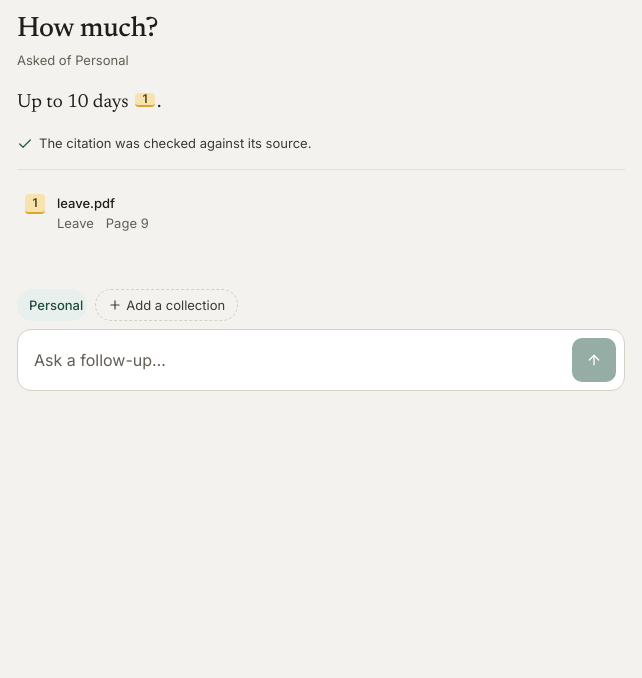
Test: Conversation › asks the chosen Collections, shows them with each answer, and lets the next question change them
Expected: the text "Asked of Personal" is shown, [17,52,129,68]
Expected: the text "The citation was checked against its source." is shown, [17,135,311,152]
Click the button "Add a collection". click: point(167, 305)
box: [95,289,238,321]
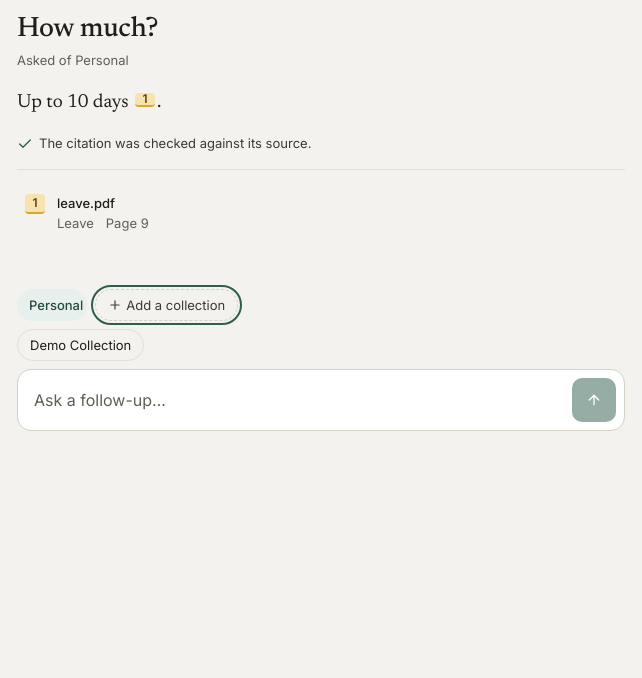
Click the button "Demo Collection". click: point(81, 345)
box: [17,329,144,361]
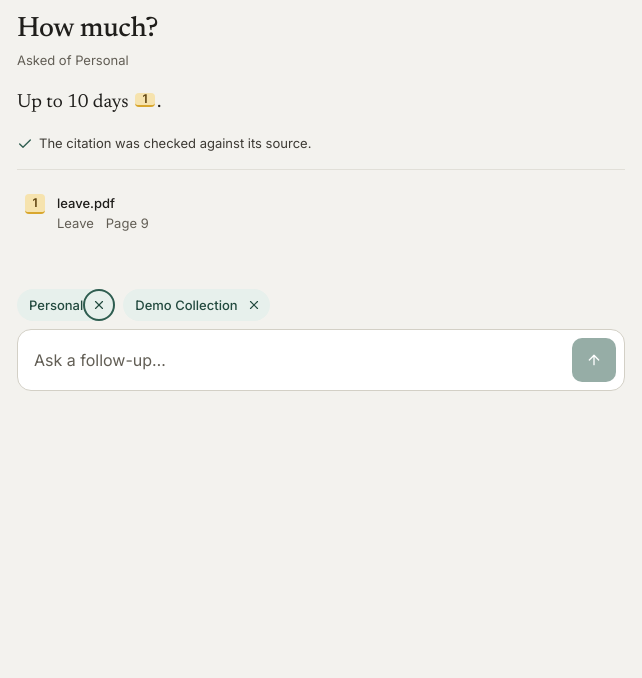
Type "And more?" into the text box named "Ask a follow-up question". click: point(295, 360)
box: [26,338,564,382]
Then press Enter
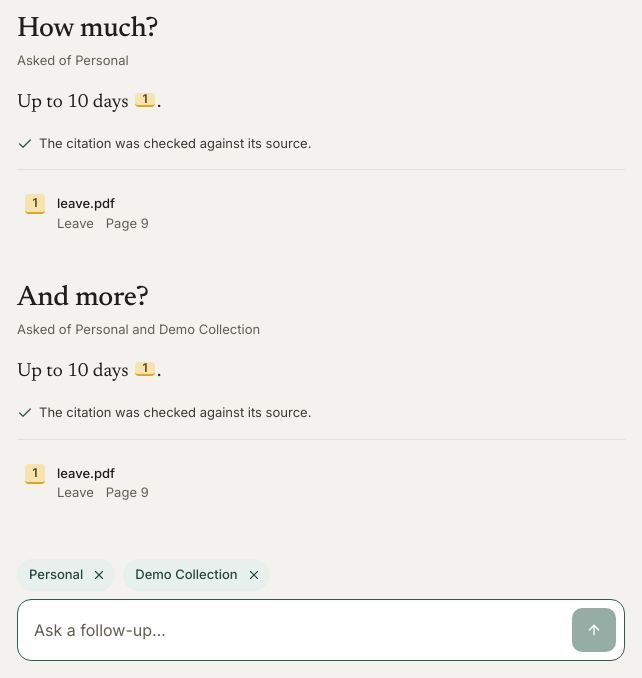
Expected: the text "Asked of Personal" is shown, [17,52,129,68]
Expected: the text "Asked of Personal and Demo Collection" is shown, [17,321,260,337]
